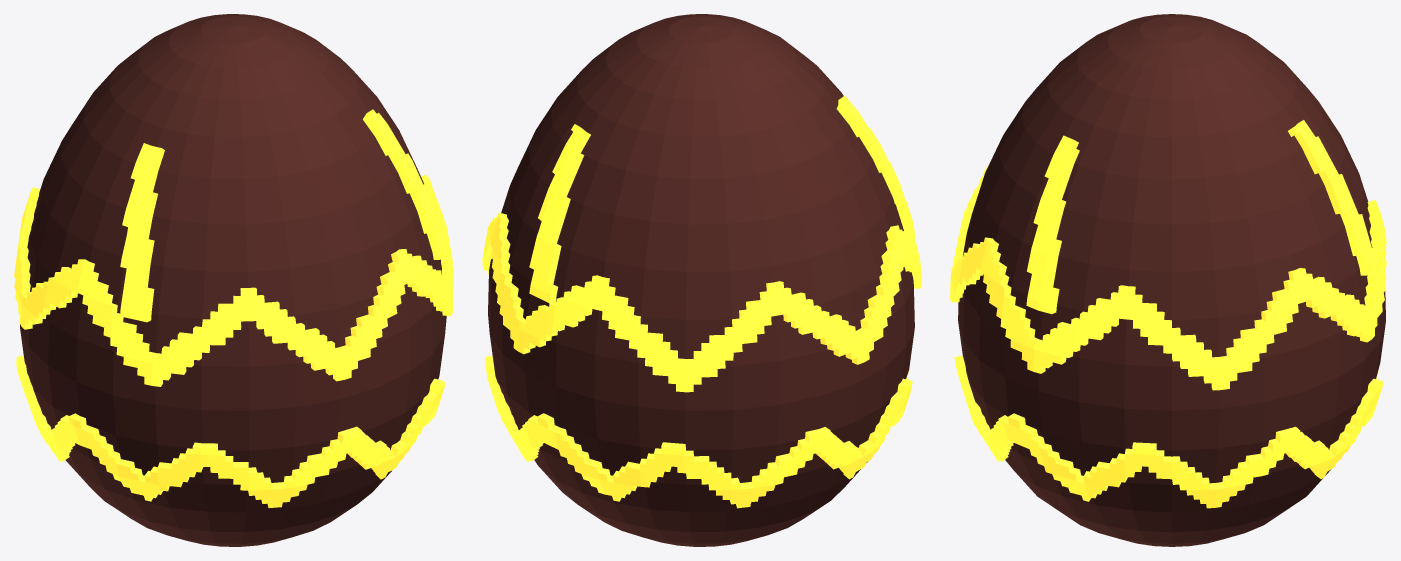
Rendered from VolcanoEgg.fbx.
3 renders of one model, left to right at view 1: azimuth 30°, elevation 25°; view 2: azimuth 150°, elevation 25°; view 3: azimuth 270°, elevation 25°, orthographic.
Visible parts, largest first — view 1: Egg_5A2A24, Egg_FF7A1A_Neon; view 2: Egg_5A2A24, Egg_FF7A1A_Neon; view 3: Egg_5A2A24, Egg_FF7A1A_Neon.
Boxes of the visible parts, bbox=[...] form: Egg_5A2A24: bbox=[20, 14, 446, 546]; Egg_FF7A1A_Neon: bbox=[14, 109, 453, 507]; Egg_5A2A24: bbox=[488, 14, 914, 546]; Egg_FF7A1A_Neon: bbox=[482, 95, 921, 508]; Egg_5A2A24: bbox=[958, 14, 1385, 546]; Egg_FF7A1A_Neon: bbox=[950, 120, 1386, 508].
Bounding box in the file's own units: 2.07 × 2.6 × 2.05.
